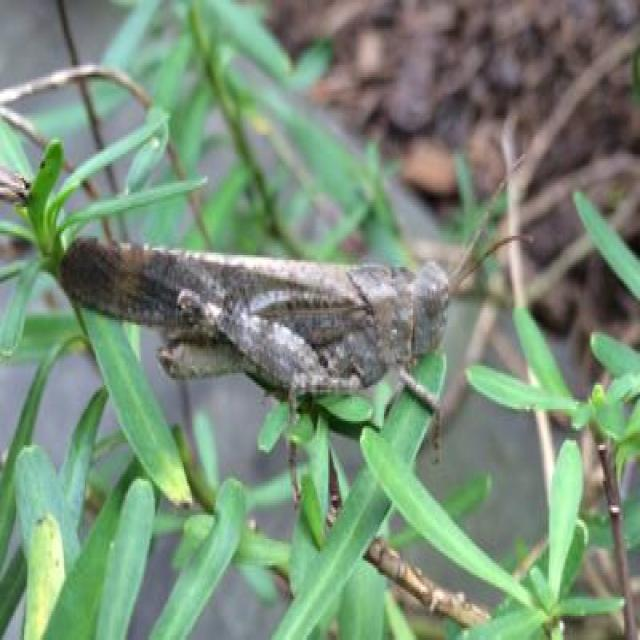antennae: (450, 156, 526, 274), (448, 235, 528, 289)
body: (174, 258, 451, 395)
insect: (59, 154, 529, 508)
legs: (287, 374, 358, 514), (400, 365, 444, 462)
wings: (70, 238, 360, 322)
